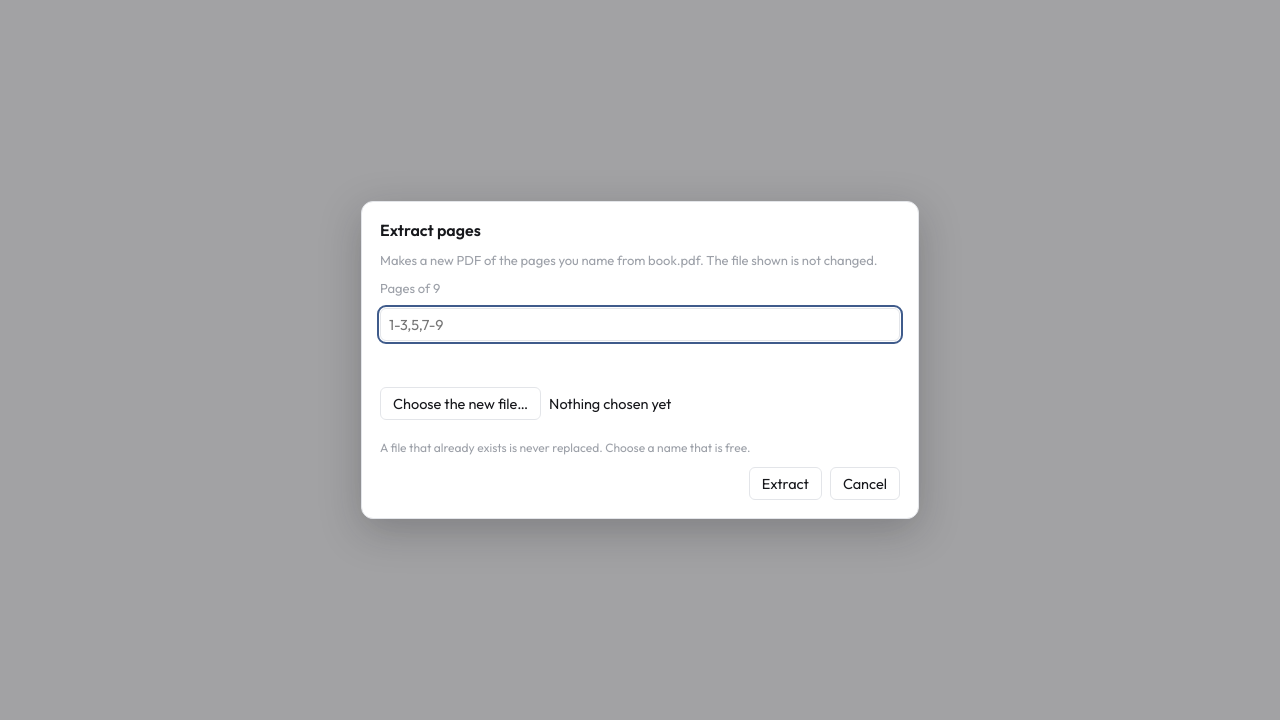
Test case: the_chooser_starts_in_the_files_folder_with_a_name_of_its_own
Click the button "Choose the new file…": click(461, 404) [380, 387, 541, 420]
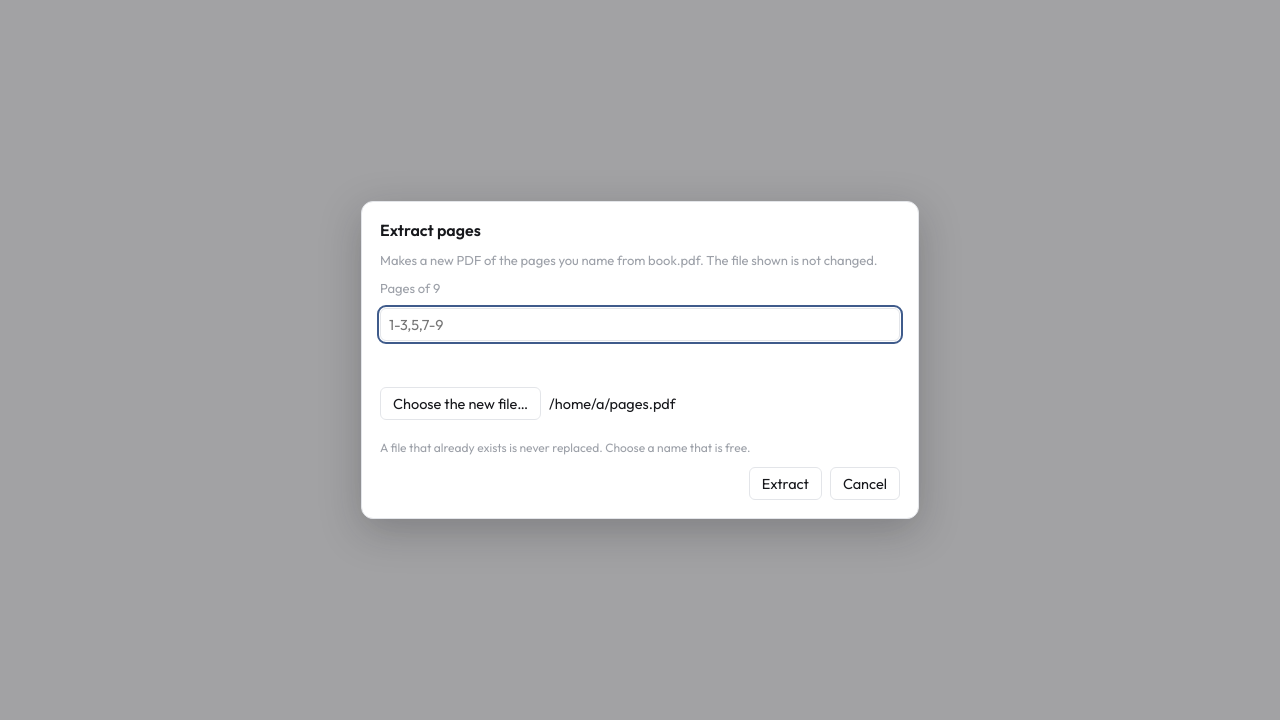
Now the text with test id "pdf-job-target" no longer shows "Nothing", box [549, 394, 676, 413]
